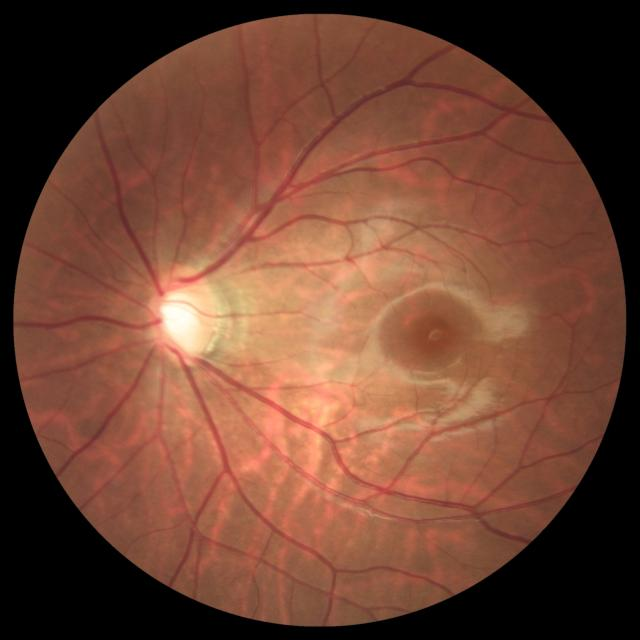OC: (162, 289, 204, 351)
OD: (149, 268, 220, 366)
